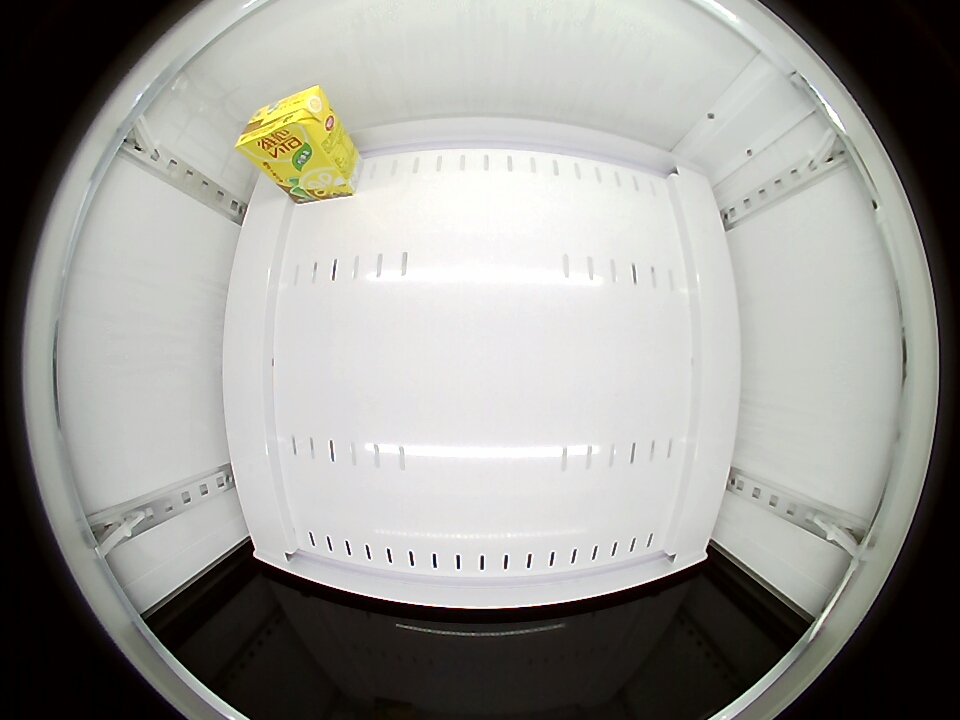weitaningmeng: (234, 85, 336, 170)
